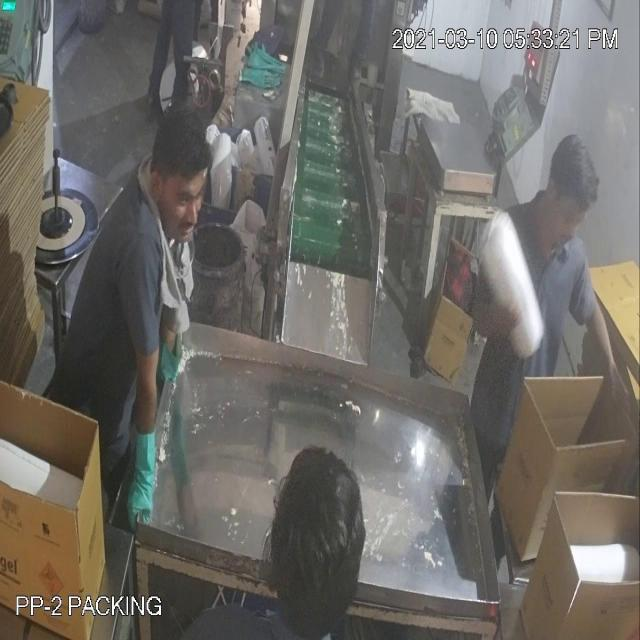No_Gloves: (40, 134, 604, 470)
